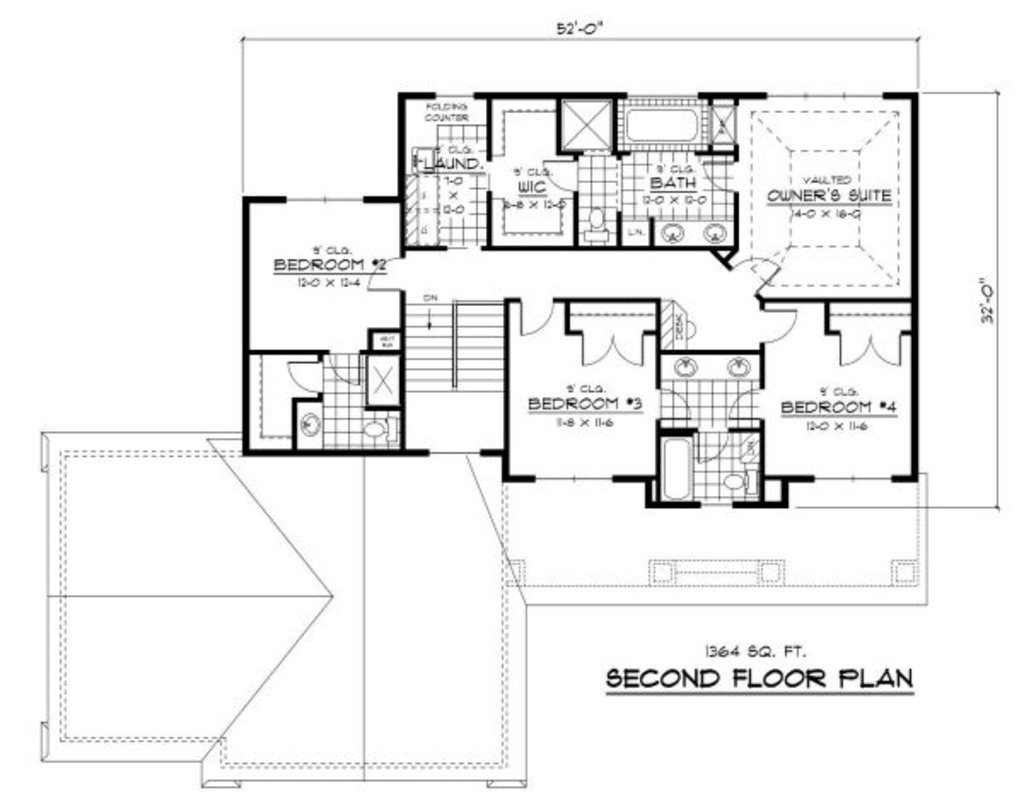door: (573, 330, 648, 369), (832, 330, 905, 369), (732, 252, 785, 295), (281, 352, 326, 394), (760, 306, 801, 349), (366, 250, 402, 296), (516, 301, 558, 337), (540, 157, 577, 194)
large_sink: (353, 412, 402, 446), (580, 207, 615, 246)
small_sink: (661, 353, 761, 381), (655, 219, 737, 248), (296, 401, 326, 454)
stairs: (404, 295, 508, 401)
tub: (615, 101, 709, 153), (655, 436, 696, 506)
windows: (759, 90, 886, 104), (275, 189, 366, 207), (529, 468, 617, 484)
